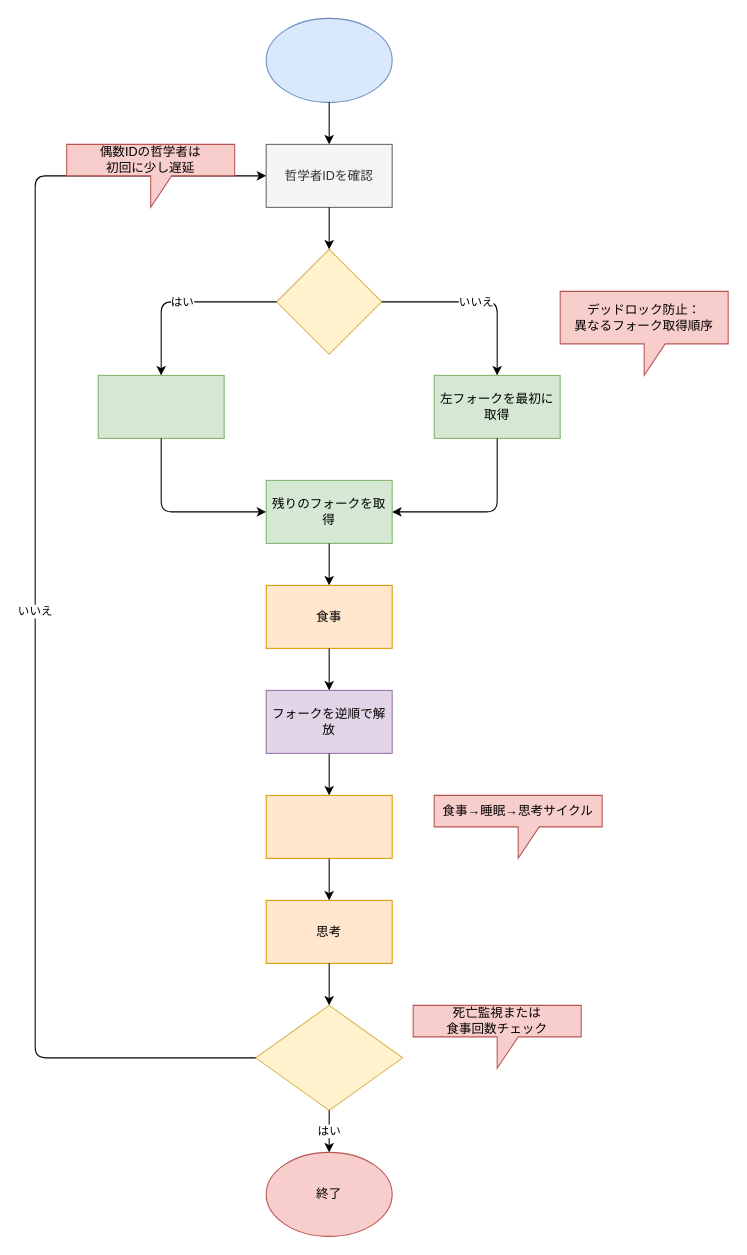
Image size: 747x1255. Some labels were removed from this diagram. Here are the shapes that lost their labels. From the top down, the centre of each, then its label:
At [328,59]: "開始".
At [329,301]: "偶数ID？".
At [160,406]: "右フォークを最初に取得".
At [328,826]: "睡眠".
At [329,1057]: "シミュレーション終了？".
